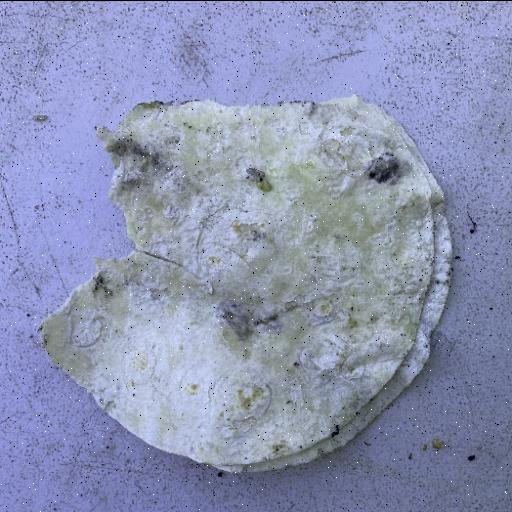Waste: (36, 92, 454, 474)
